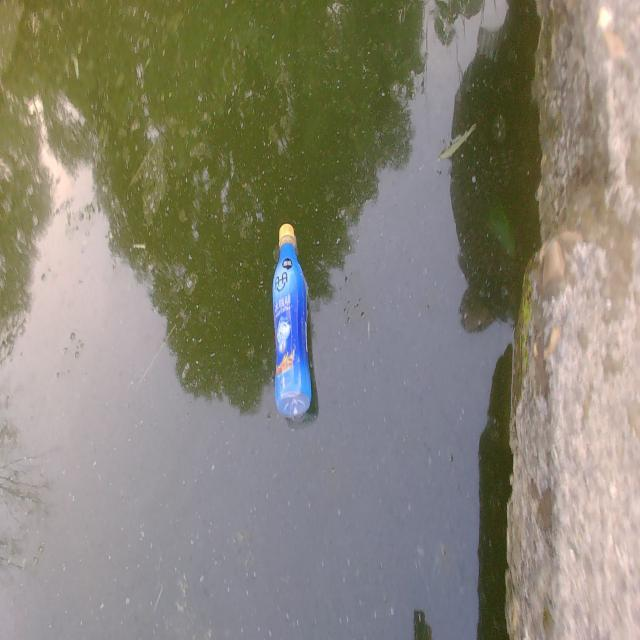bottle: (256, 193, 342, 455)
